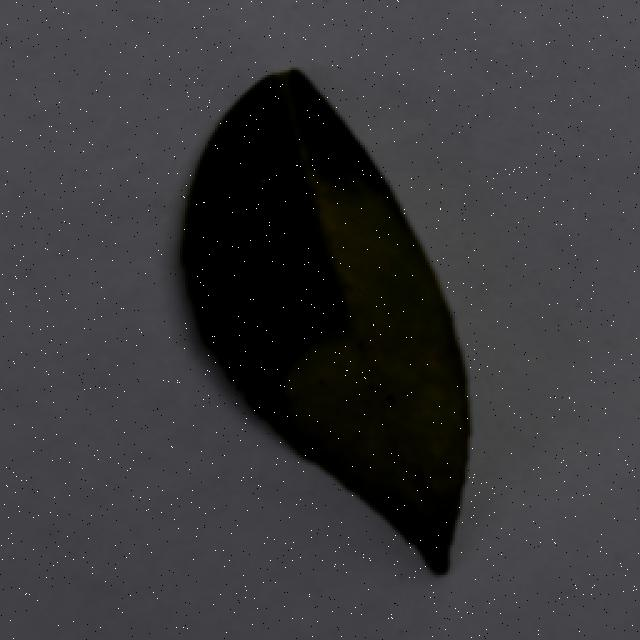blackspot: (153, 56, 514, 588)
